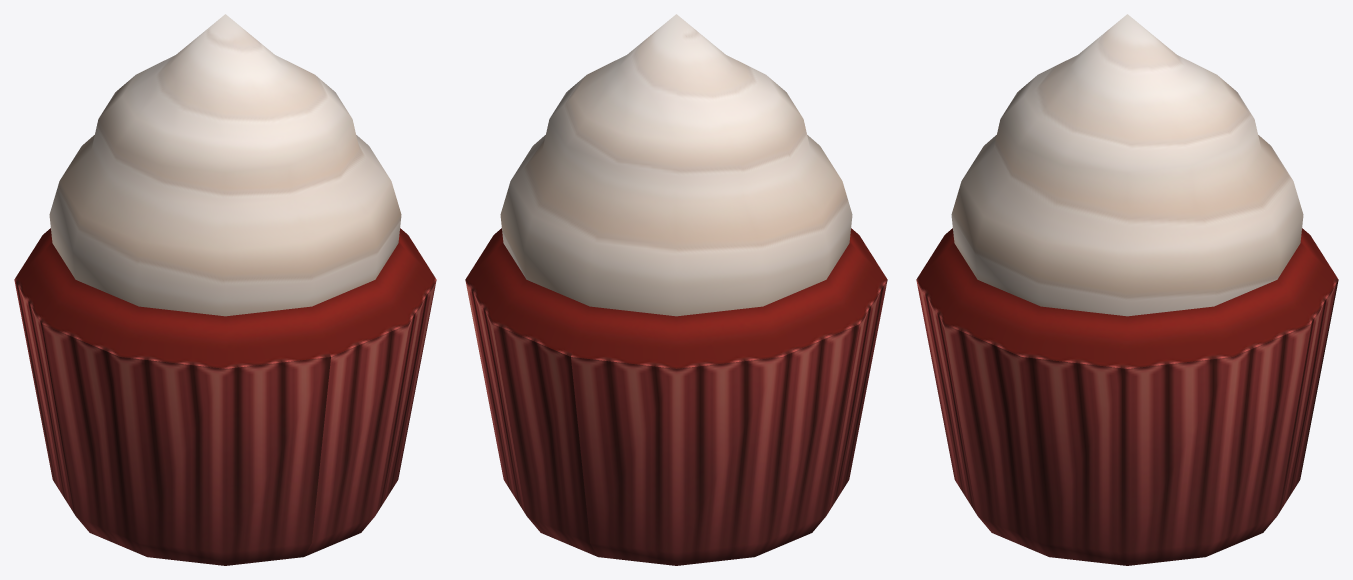
Rendered from 009-Cupcakes_005.FBX.
3 views of the same model, side by side, from view 1: azimuth 30°, elevation 25°; view 2: azimuth 150°, elevation 25°; view 3: azimuth 270°, elevation 25° (orthographic).
Parts seen in each view (by area): view 1: 009-Cupcakes_005; view 2: 009-Cupcakes_005; view 3: 009-Cupcakes_005.
Part boxes in pixels (x1,y1,x2,y2): 009-Cupcakes_005: (14,14,436,565); 009-Cupcakes_005: (465,14,887,565); 009-Cupcakes_005: (916,14,1338,565).
Size of the model in its own units: 12.34 by 15.65 by 12.34.
